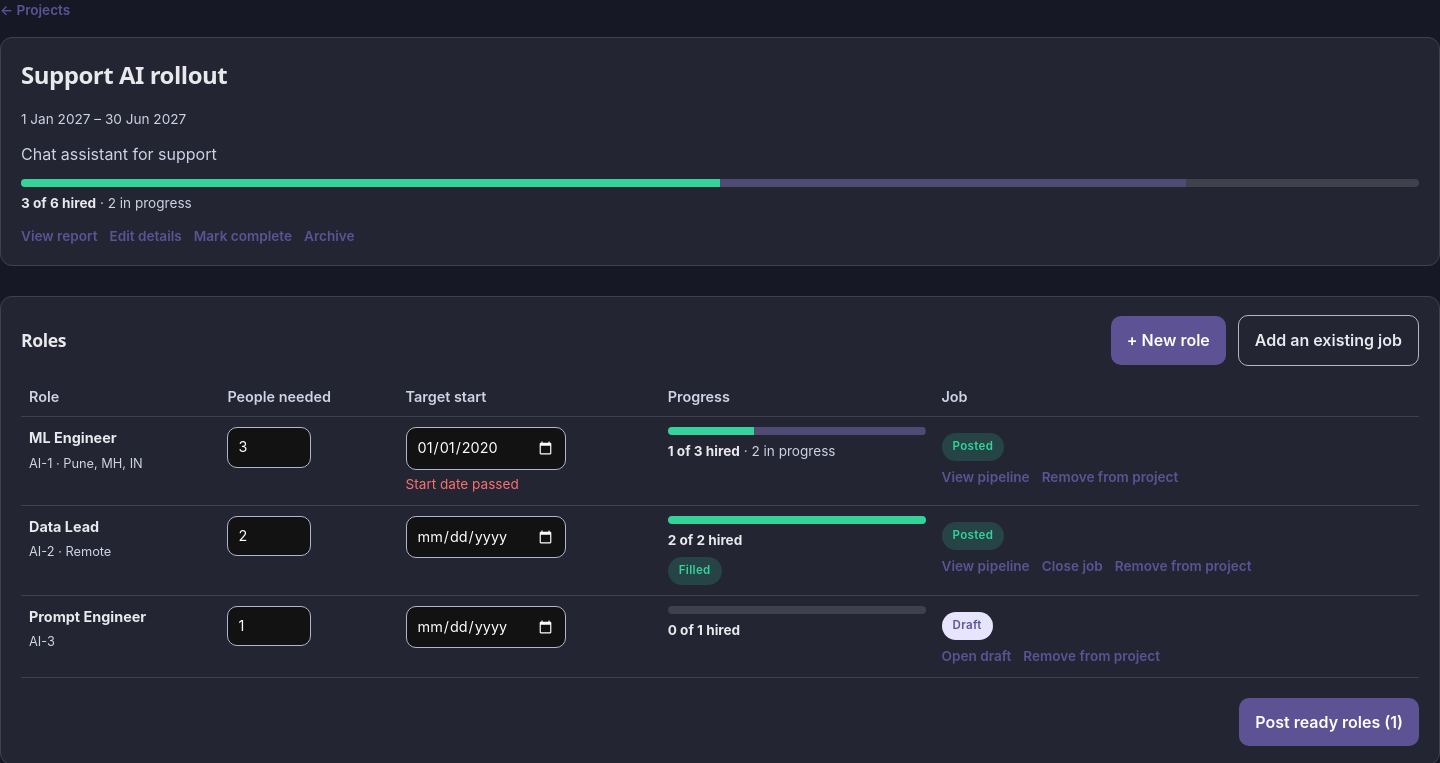
Test: EmployerProjectDetail › posts ready draft roles
Click the button "Post ready roles (1)": click(1329, 722) [1239, 698, 1419, 746]
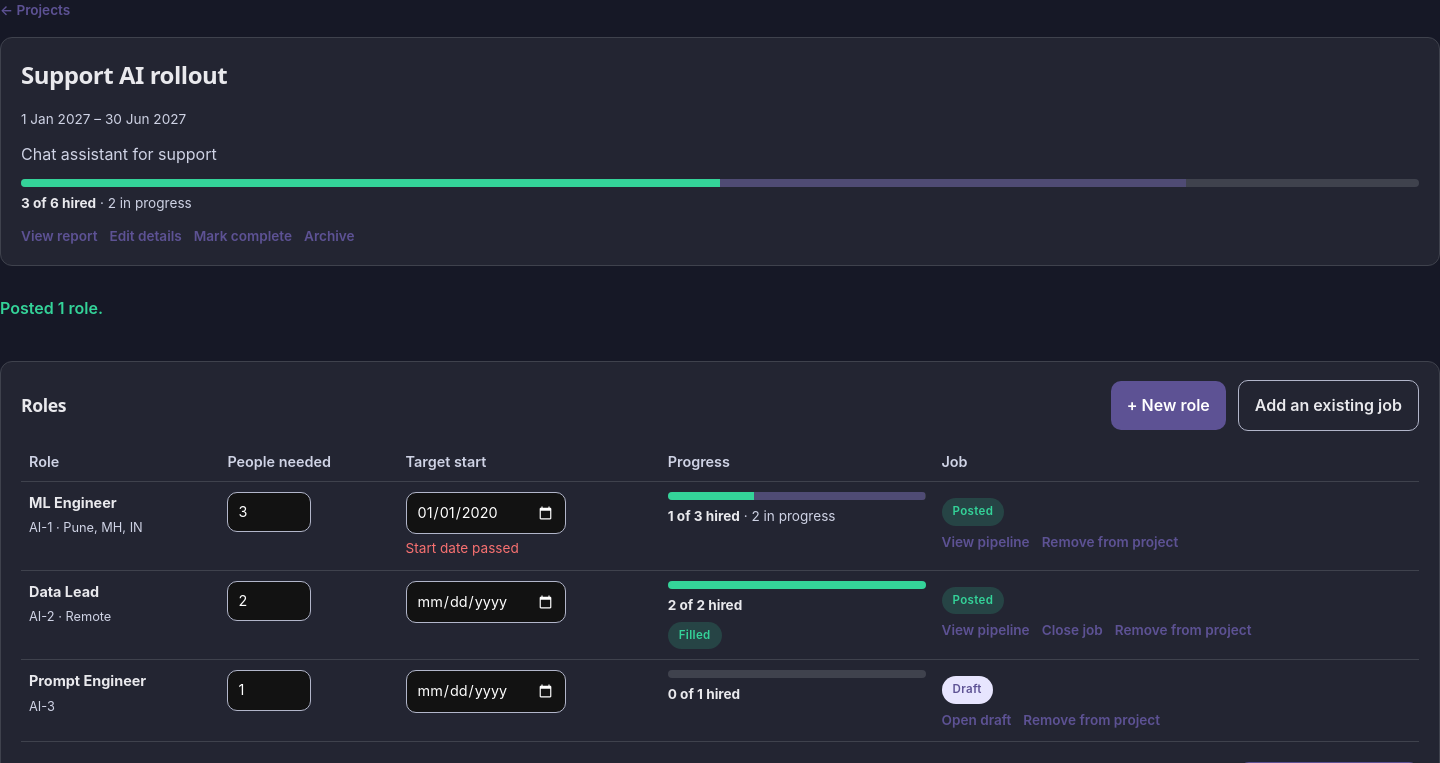
Expected: the text "Posted 1 role." is shown, [0, 298, 103, 318]
